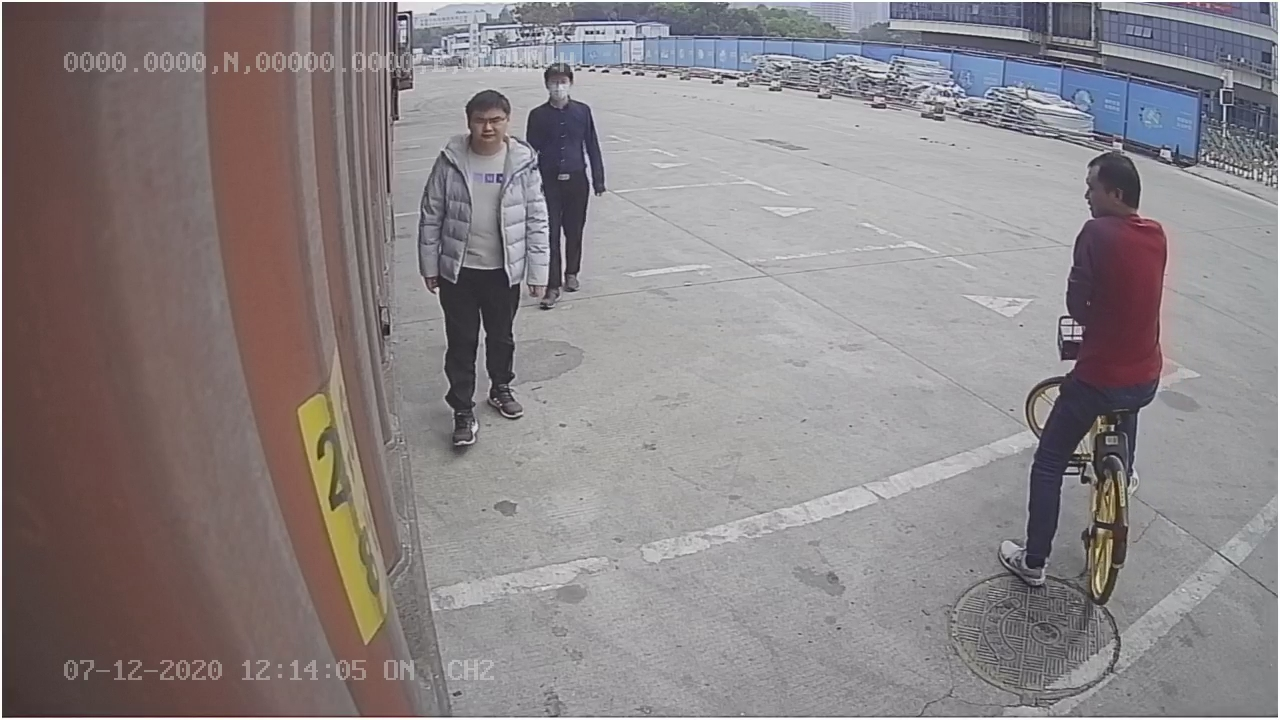person: (419, 90, 554, 445)
